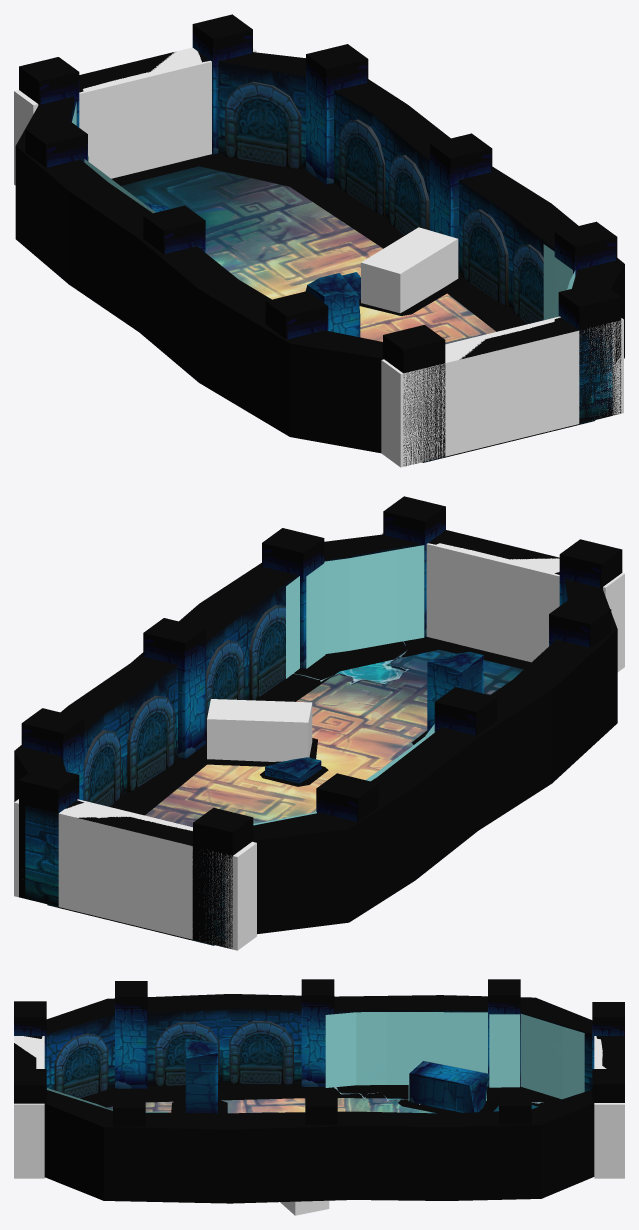
File: Dungeon_051_Road_002.fbx
The picture shows the model from 3 angles, top to bottom: view 1: azimuth 30°, elevation 25°; view 2: azimuth 150°, elevation 25°; view 3: azimuth 270°, elevation 25°; orthographic projection. The views are drawn at different scales.
Parts seen in each view (by area): view 1: Dun_051_Road_002_Wall, Dun_051_Road_002_Pillar, DoorWay_NavMask (1) (×2), Dun_051_Road_002_Ground, Dun_051_Road_002_Wallobject, Dun_051_Road_002_shadow, Cube, Dun_051_Door_002 (×2), Dun_051_Obj01_Pillar, Dun_051_Road_002_GroundWater_Terikaeshi, Dun_011_Door_002_shadow, Dun_051_Obj02_Pillar_Shadow; view 2: Dun_051_Road_002_Wall, Dun_051_Road_002_Pillar, DoorWay_NavMask (1) (×2), Dun_051_Road_002_Ground, Dun_051_Road_002_GroundWater_Terikaeshi, Dun_051_Road_002_Wallobject, Cube, Dun_051_Road_002_shadow, Dun_051_Door_002 (×2), Dun_051_Obj01_Pillar, Dun_051_Road_002_GroundWater, Dun_051_Obj02_Pillar_Shadow (+2 smaller); view 3: Dun_051_Road_002_Wall, Dun_051_Road_002_Pillar, Dun_051_Road_002_GroundWater_Terikaeshi, Dun_051_Road_002_Wallobject, DoorWay_NavMask (1) (×2), Dun_051_Road_002_shadow, Dun_051_Road_002_Ground, Dun_051_Obj01_Pillar, Dun_051_Door_002 (×2), Cube.
Part boxes in pixels (x1,y1,x2,y2): Dun_051_Road_002_Wall: (15,52,624,453); Dun_051_Road_002_Pillar: (19,14,621,465); DoorWay_NavMask (1) (×2): (14,47,623,467); Dun_051_Road_002_Ground: (121,166,595,462); Dun_051_Road_002_Wallobject: (225,81,543,323); Dun_051_Road_002_shadow: (181,154,527,331); Cube: (361,227,458,315); Dun_051_Door_002 (×2): (79,51,579,457); Dun_051_Obj01_Pillar: (305,273,360,337); Dun_051_Road_002_GroundWater_Terikaeshi: (72,102,575,320); Dun_011_Door_002_shadow: (111,162,198,185); Dun_051_Obj02_Pillar_Shadow: (359,272,467,315); Dun_051_Road_002_Wall: (14,534,617,947); Dun_051_Road_002_Pillar: (19,496,622,949); DoorWay_NavMask (1) (×2): (14,532,624,950); Dun_051_Road_002_Ground: (47,649,523,945); Dun_051_Road_002_GroundWater_Terikaeshi: (253,545,434,825); Dun_051_Road_002_Wallobject: (84,605,285,806); Cube: (207,699,312,761); Dun_051_Road_002_shadow: (110,637,531,815); Dun_051_Door_002 (×2): (58,530,559,940); Dun_051_Obj01_Pillar: (427,652,483,732); Dun_051_Road_002_GroundWater: (293,641,408,684); Dun_051_Obj02_Pillar_Shadow: (194,737,328,786); Dun_051_Road_002_Wall: (45,994,594,1203); Dun_051_Road_002_Pillar: (14,979,624,1177); Dun_051_Road_002_GroundWater_Terikaeshi: (47,1012,584,1112); Dun_051_Road_002_Wallobject: (54,1021,293,1098); DoorWay_NavMask (1) (×2): (14,1036,624,1178); Dun_051_Road_002_shadow: (80,1082,561,1113); Dun_051_Road_002_Ground: (107,1098,538,1113); Dun_051_Obj01_Pillar: (185,1039,217,1113); Dun_051_Door_002 (×2): (14,1036,624,1068); Cube: (280,1200,329,1215).
Size of what is drawn, in the model's own units: 7.89 by 3.38 by 15.
